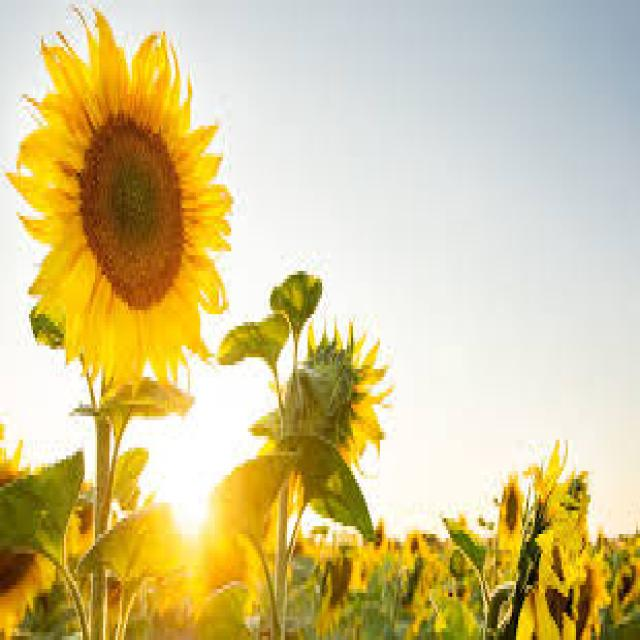sunflower: (10, 0, 245, 412), (280, 312, 394, 500), (494, 466, 524, 559)
